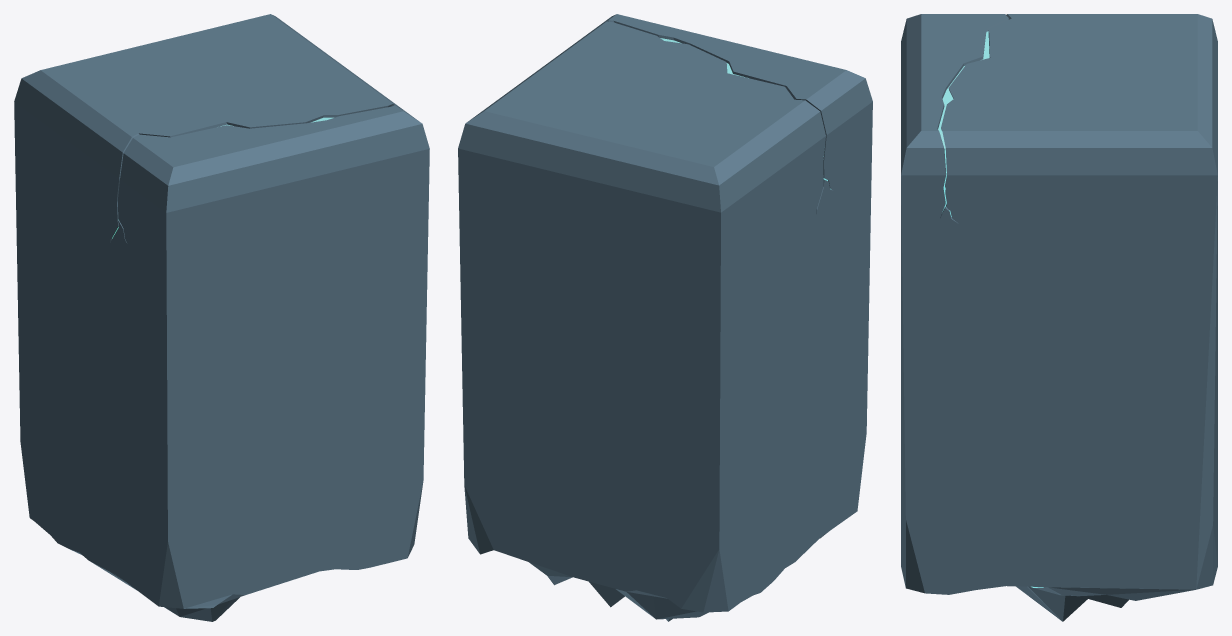
Rendered from CuteAbyssTileA.fbx.
The picture shows the model from 3 angles, left to right: view 1: azimuth 30°, elevation 25°; view 2: azimuth 150°, elevation 25°; view 3: azimuth 270°, elevation 25°; orthographic projection. The views are drawn at different scales.
Visible parts, largest first — view 1: Cube; view 2: Cube; view 3: Cube.
Part boxes in pixels (box(x1,y1,x2,y2)): Cube: box(14, 14, 429, 621); Cube: box(458, 14, 872, 621); Cube: box(901, 14, 1217, 621).
Size of the model in its own units: 200 by 384 by 200.
